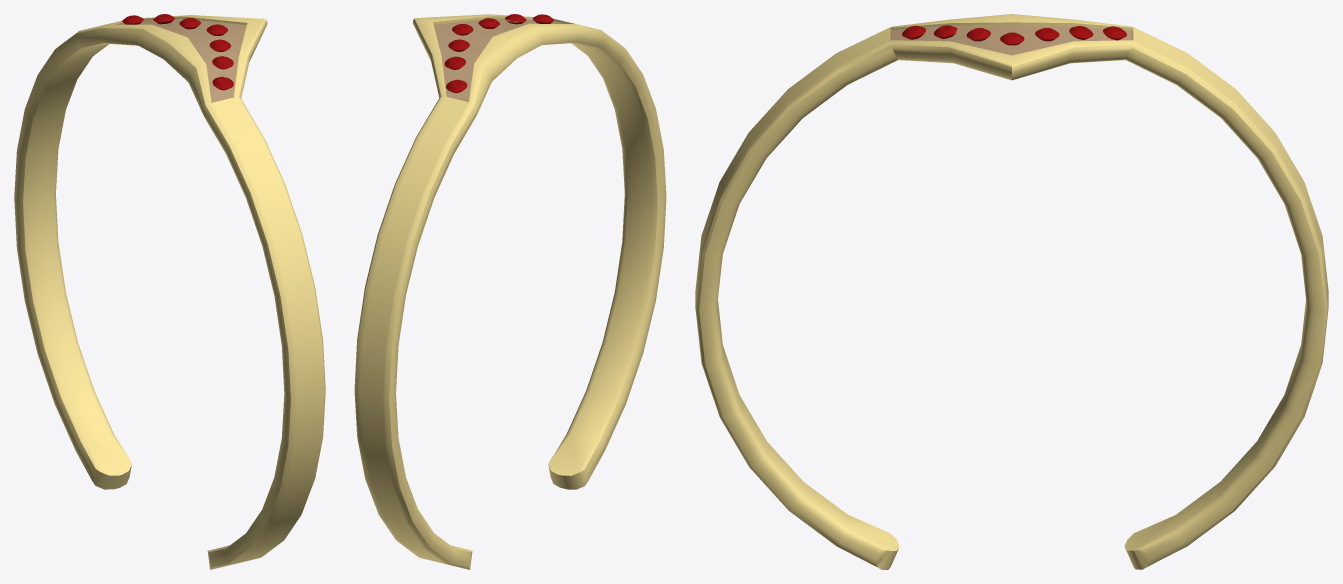
Rendered from goldbraceletb1.glb.
The picture shows the model from 3 angles, left to right: view 1: azimuth 30°, elevation 25°; view 2: azimuth 150°, elevation 25°; view 3: azimuth 270°, elevation 25°; orthographic projection. The views are drawn at different scales.
Visible parts, largest first — view 1: NoireWristStrap; view 2: NoireWristStrap; view 3: NoireWristStrap.
Part boxes in pixels (x1,y1,x2,y2): NoireWristStrap: (14, 14, 325, 569); NoireWristStrap: (354, 14, 666, 569); NoireWristStrap: (695, 14, 1328, 569).
Bounding box in the file's own units: 0.0165 × 0.0665 × 0.0686.
1 material, 1 textured.
